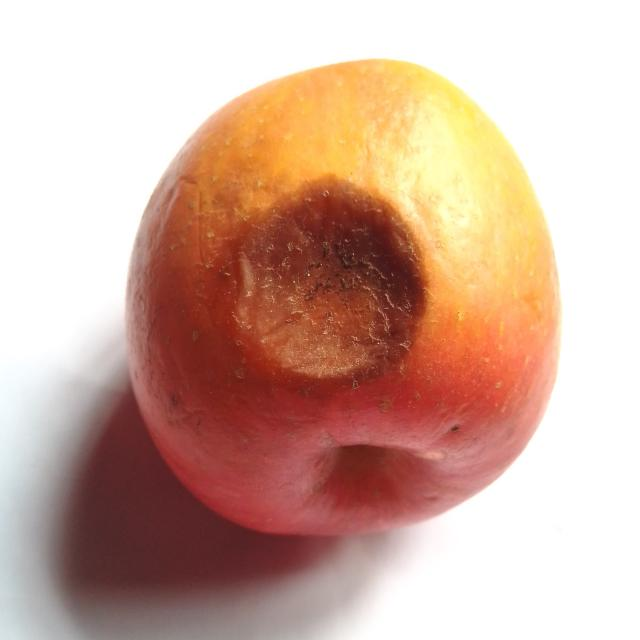apple: (127, 61, 560, 534)
